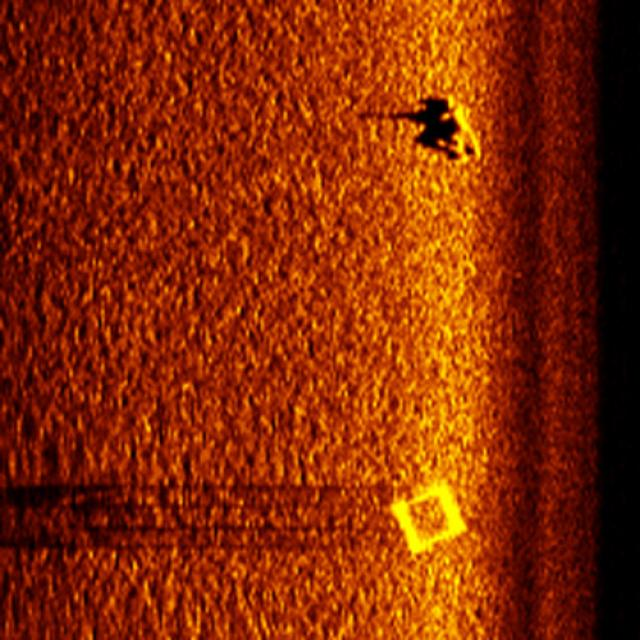other: (368, 463, 484, 562), (394, 71, 492, 182)
